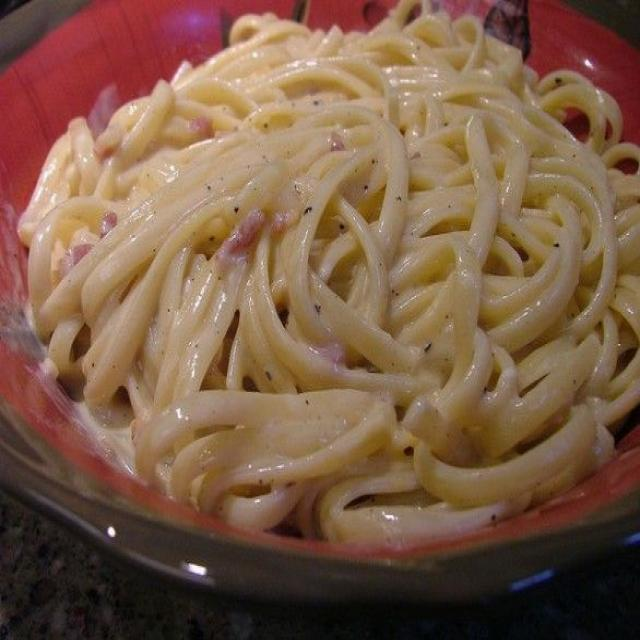Pasta with carbonara sauce: (13, 32, 640, 574)
